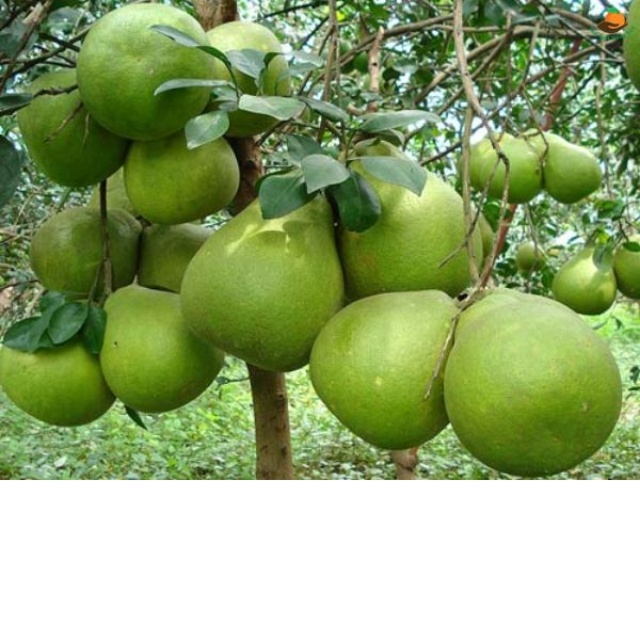buoi: (439, 289, 626, 477), (178, 181, 353, 374), (301, 286, 479, 457), (75, 1, 213, 142)
